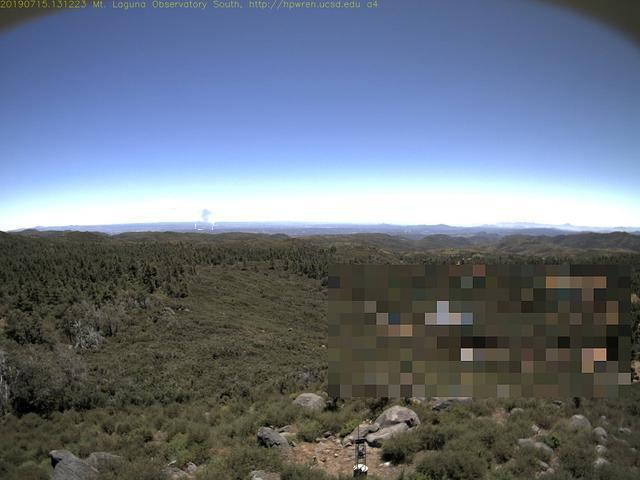smoke: (197, 207, 216, 232)
